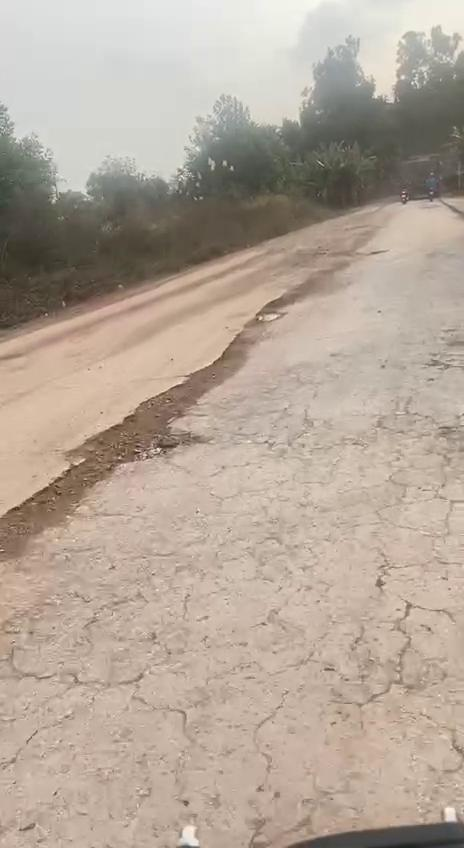pothole: (0, 439, 124, 559), (124, 356, 232, 454)
